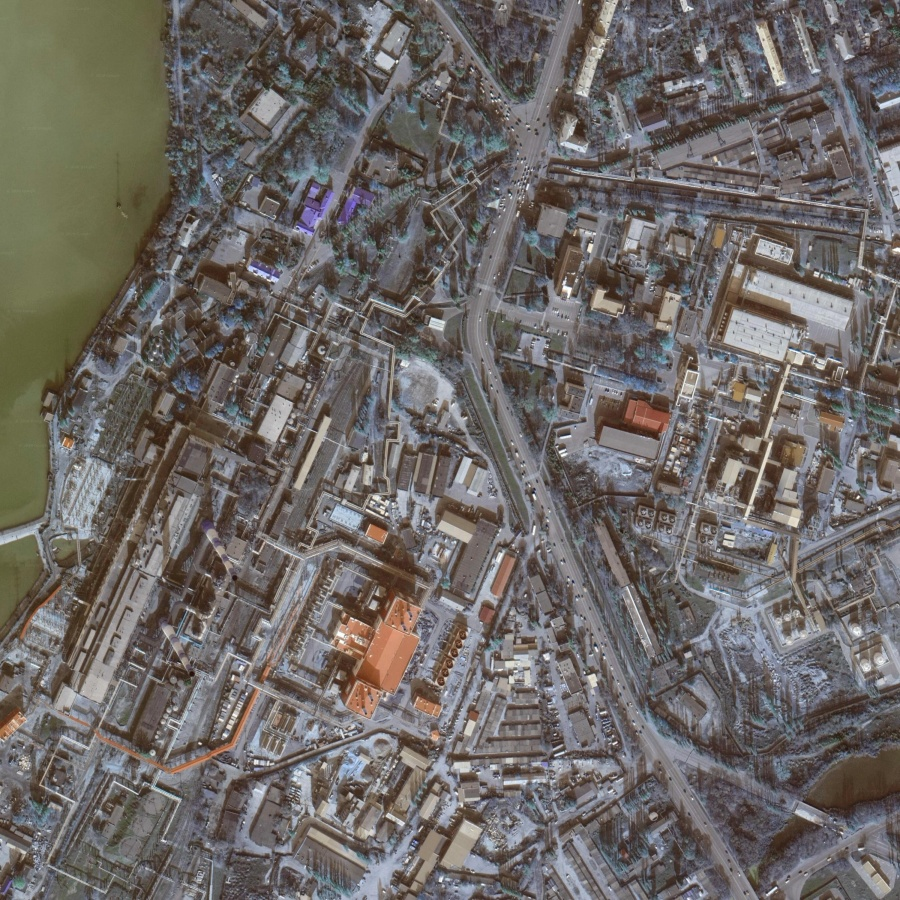PowerPlant: (26, 370, 299, 779)
